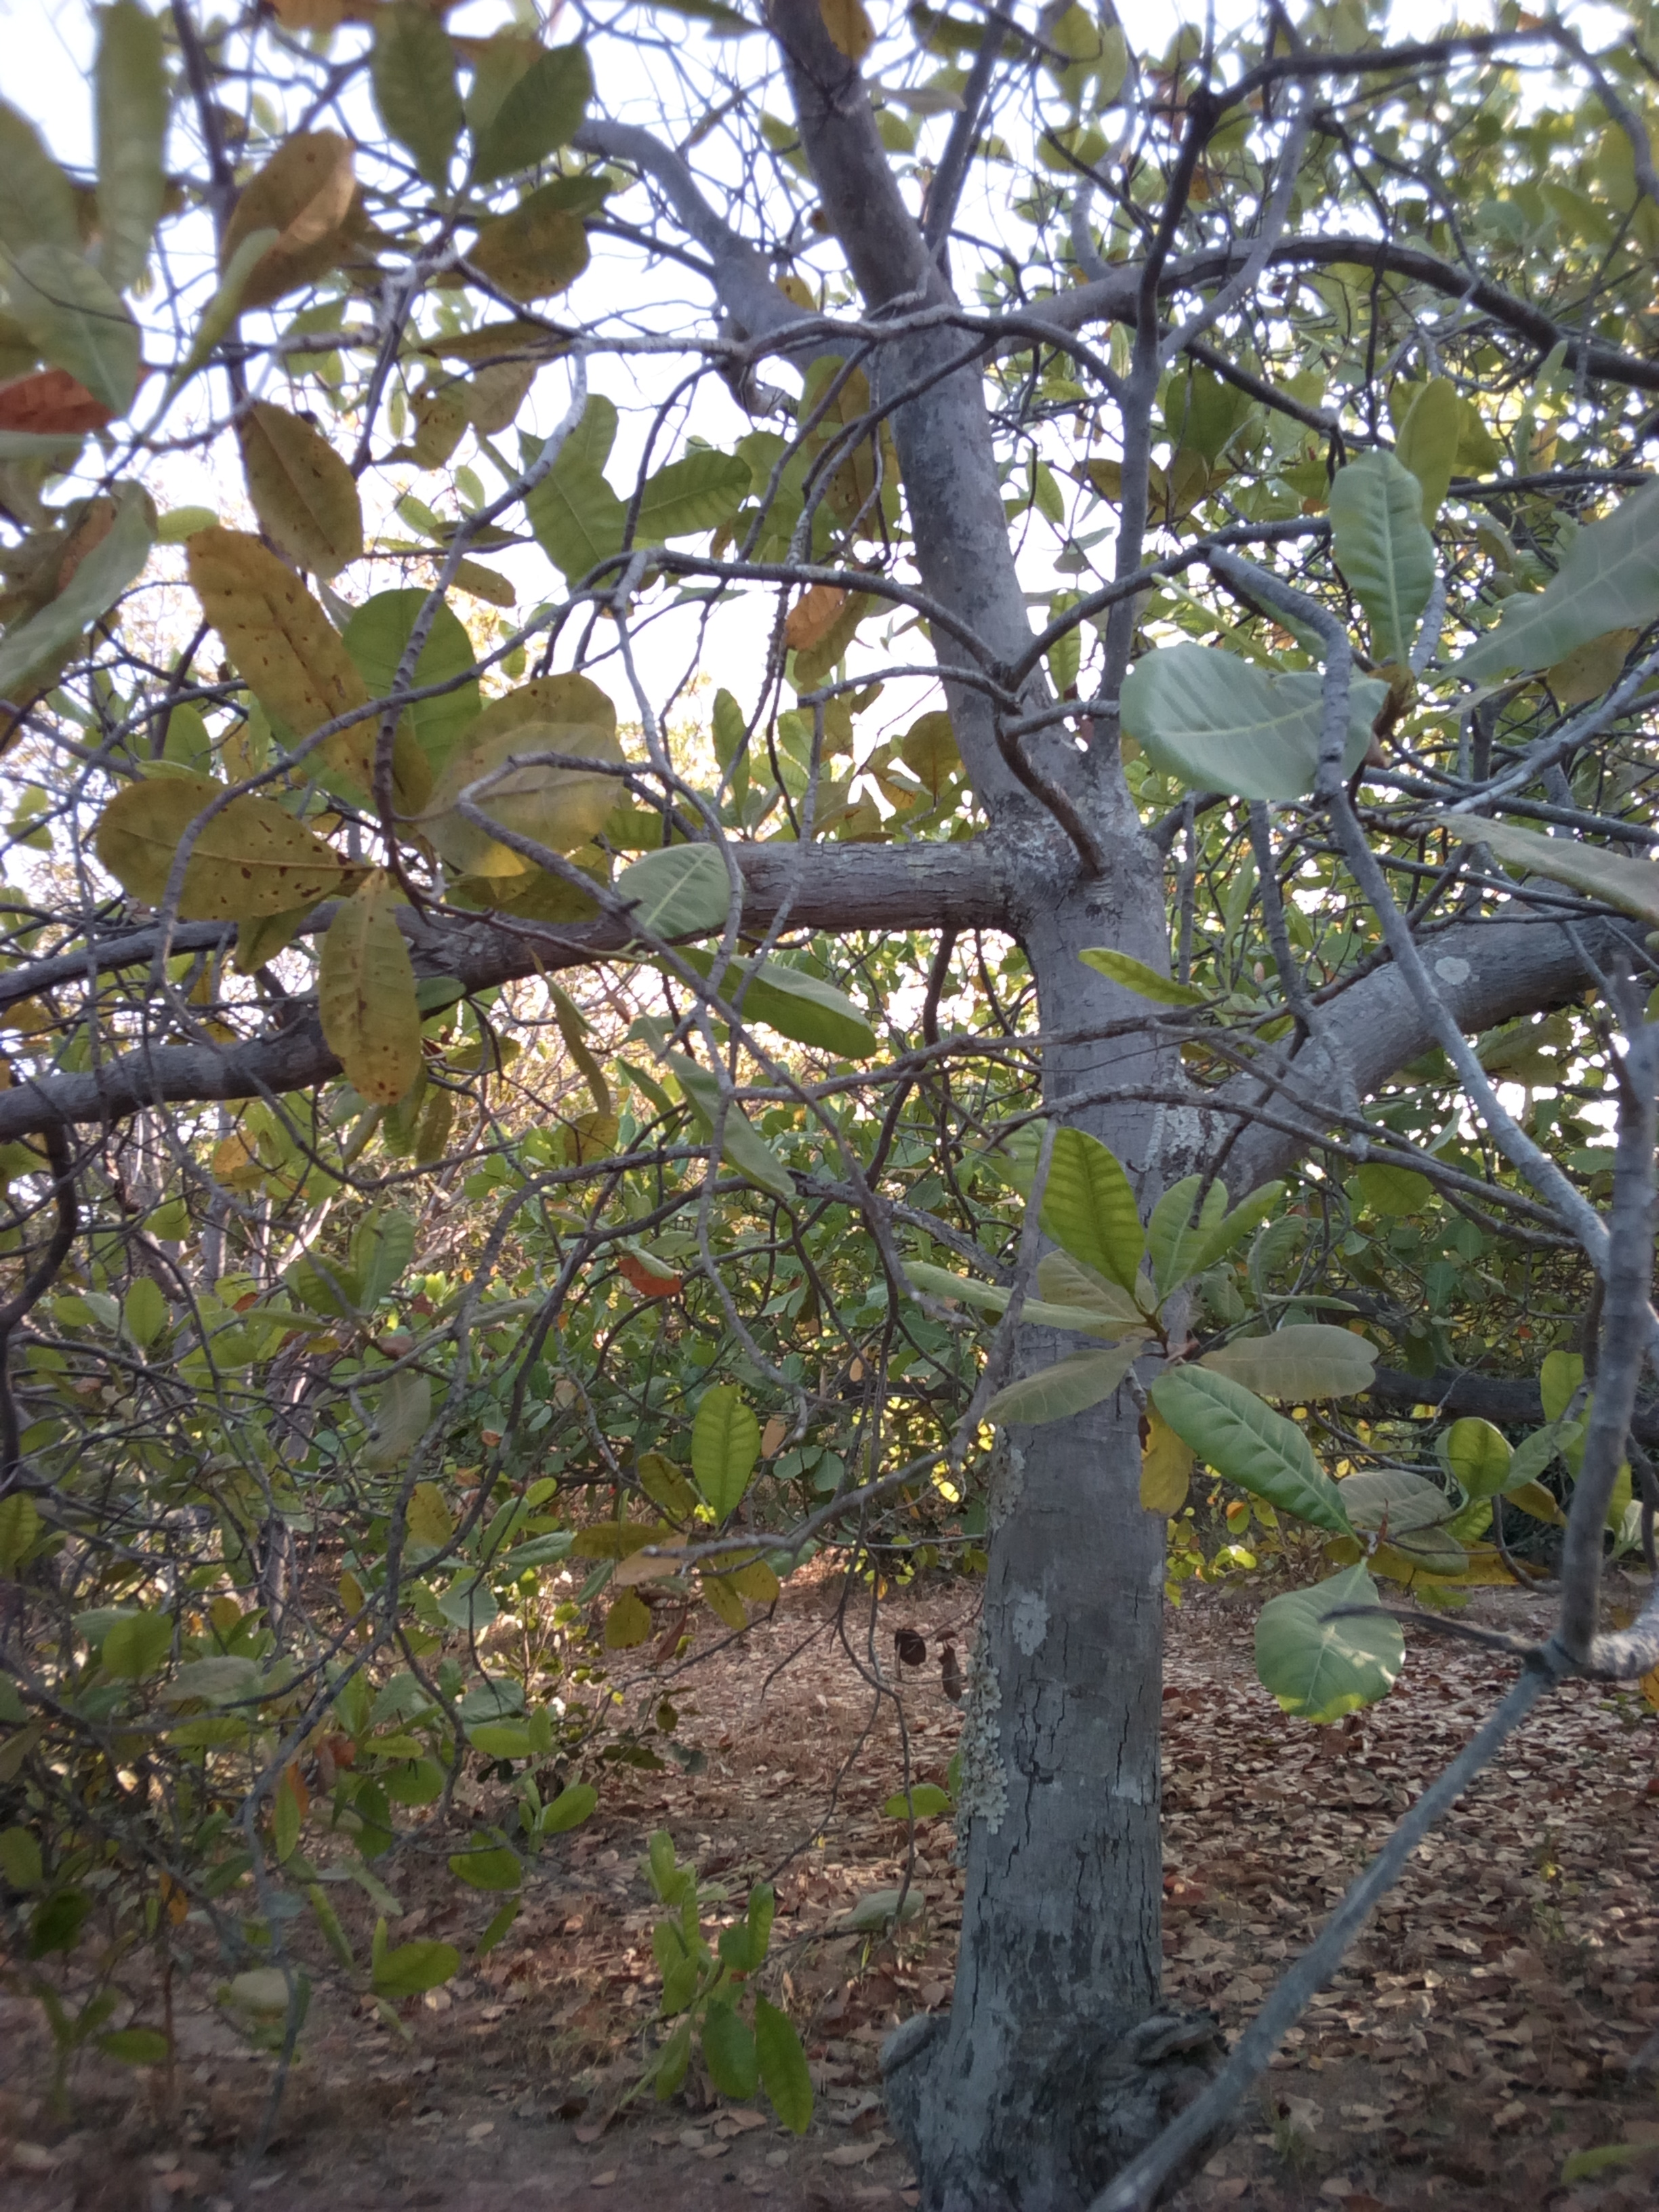Pestalotiose: (179, 507, 406, 822), (98, 777, 317, 920), (314, 883, 406, 1096)
